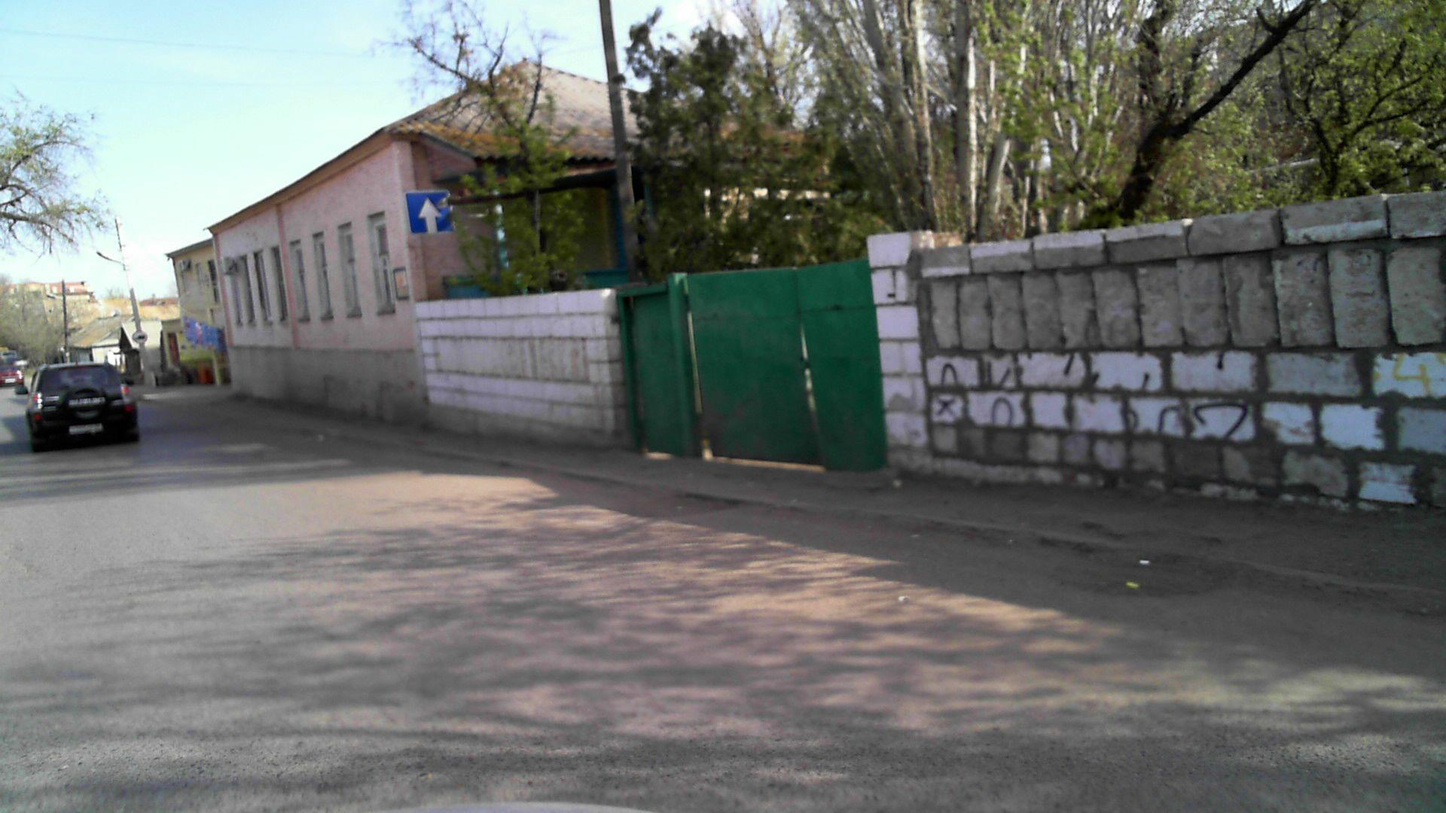road_sign: (405, 188, 453, 237)
